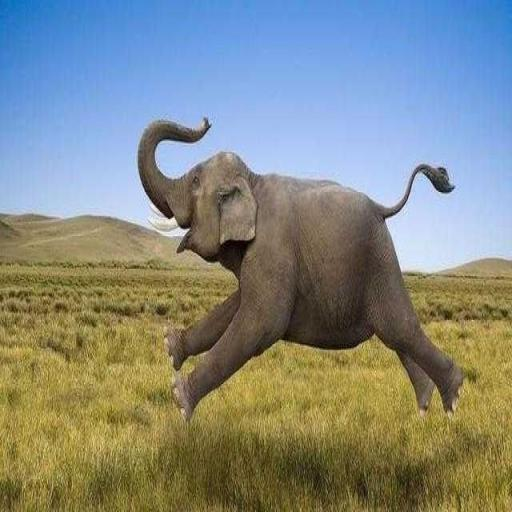Elephant: (136, 114, 463, 426)
